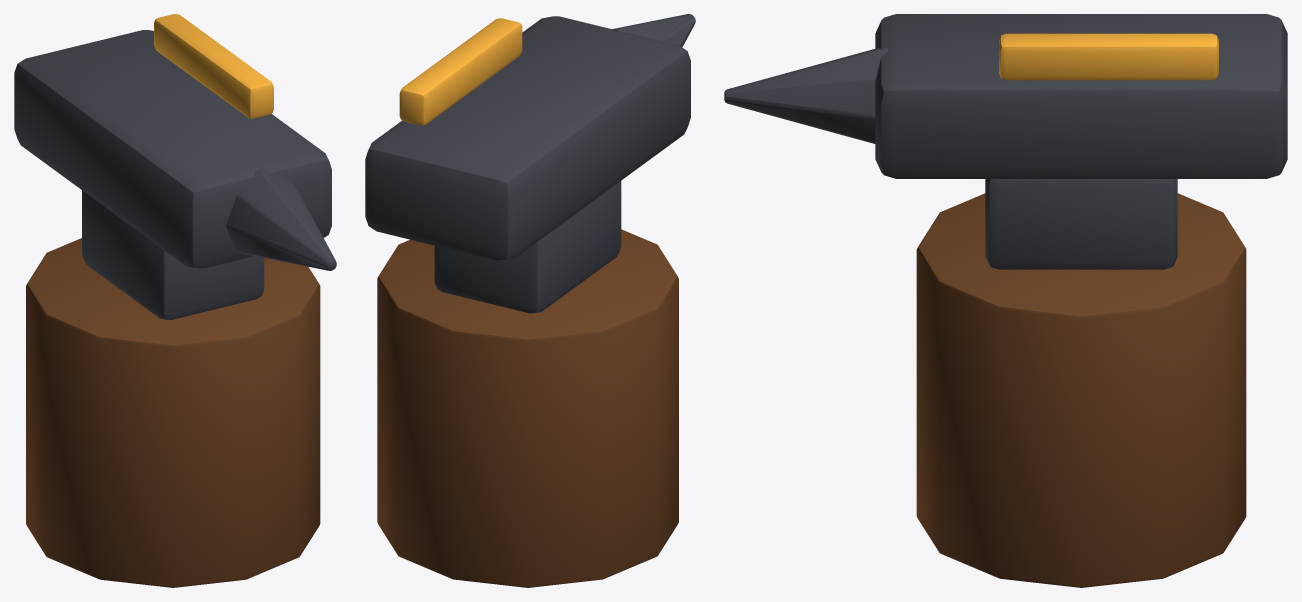
The model's file is MidFire.fbx.
The picture shows the model from 3 angles, left to right: view 1: azimuth 30°, elevation 25°; view 2: azimuth 150°, elevation 25°; view 3: azimuth 270°, elevation 25°; orthographic projection. The views are drawn at different scales.
Visible parts, largest first — view 1: MidFire; view 2: MidFire; view 3: MidFire.
Boxes of the visible parts, x1,y1,x2,y2 form: MidFire: (14, 14, 336, 587); MidFire: (365, 14, 695, 587); MidFire: (724, 14, 1287, 587).
Bounding box in the file's own units: 240 × 410 × 410.
